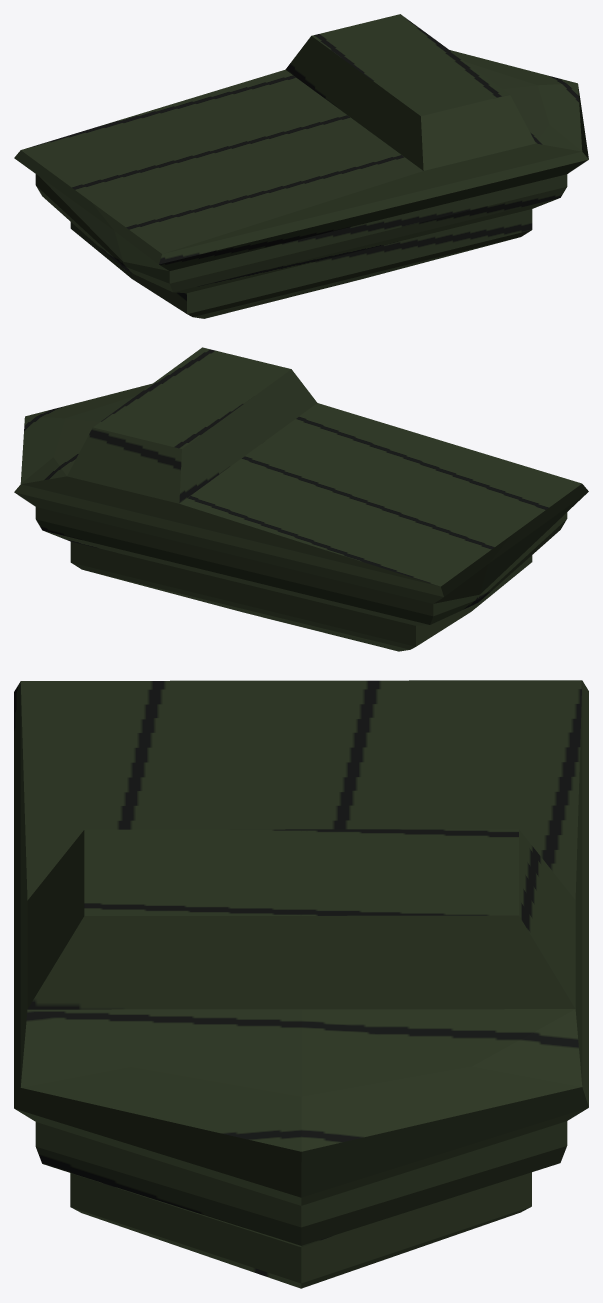
Rendered from BreachShield_Right.fbx.
3 renders of one model, top to bottom at view 1: azimuth 30°, elevation 25°; view 2: azimuth 150°, elevation 25°; view 3: azimuth 270°, elevation 25°, orthographic. The views are drawn at different scales.
Visible parts, largest first — view 1: HordePraetor_BreachShield_Right; view 2: HordePraetor_BreachShield_Right; view 3: HordePraetor_BreachShield_Right.
Boxes of the visible parts, x1=… form: HordePraetor_BreachShield_Right: x1=14, y1=14, x2=588, y2=318; HordePraetor_BreachShield_Right: x1=14, y1=347, x2=588, y2=651; HordePraetor_BreachShield_Right: x1=14, y1=680, x2=588, y2=1288.
Bounding box in the file's own units: 0.4006 × 0.136 × 0.2045.
